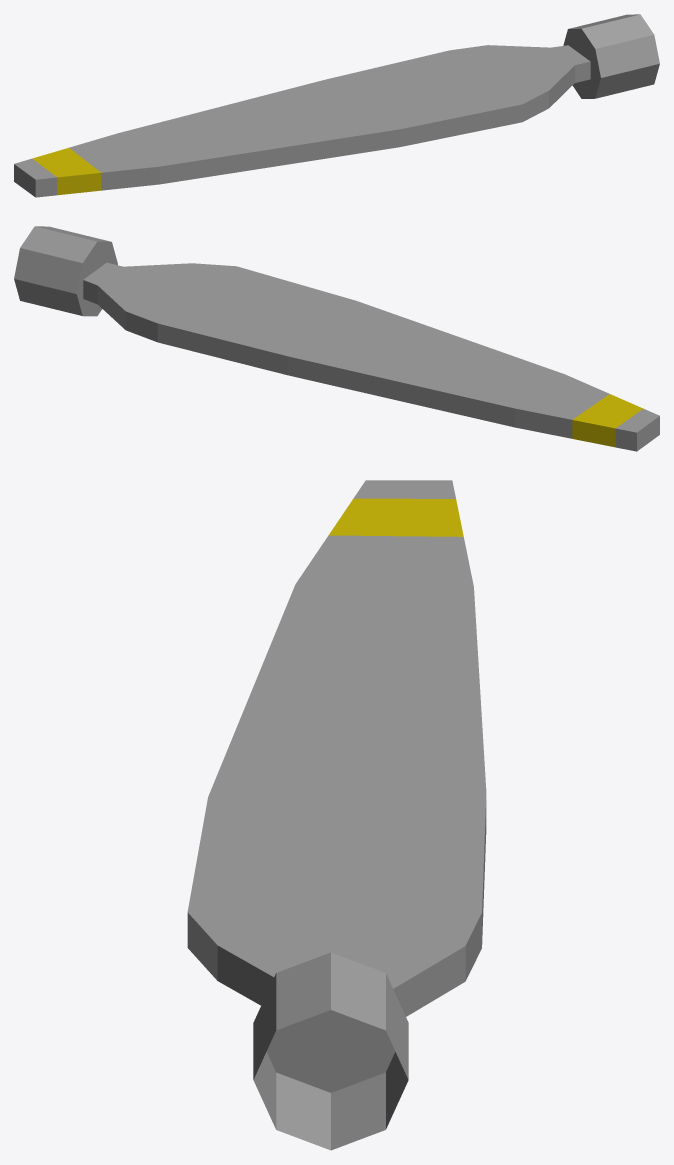
Rendered from epe_drone_propeller_blade.dae.
The picture shows the model from 3 angles, top to bottom: view 1: azimuth 30°, elevation 25°; view 2: azimuth 150°, elevation 25°; view 3: azimuth 270°, elevation 25°; orthographic projection. The views are drawn at different scales.
Parts seen in each view (by area): view 1: drone_propeller_blade; view 2: drone_propeller_blade; view 3: drone_propeller_blade.
Part boxes in pixels (x1,y1,x2,y2): drone_propeller_blade: [14, 14, 659, 197]; drone_propeller_blade: [14, 226, 659, 451]; drone_propeller_blade: [187, 480, 486, 1150].
Size of the model in its own units: 0.4549 by 0.0987 by 0.0513.
